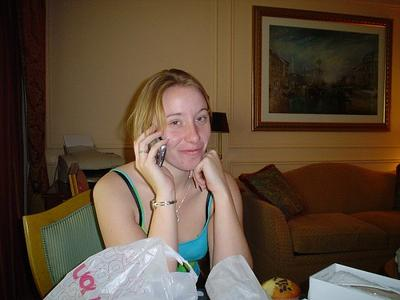person: (90, 66, 255, 300)
